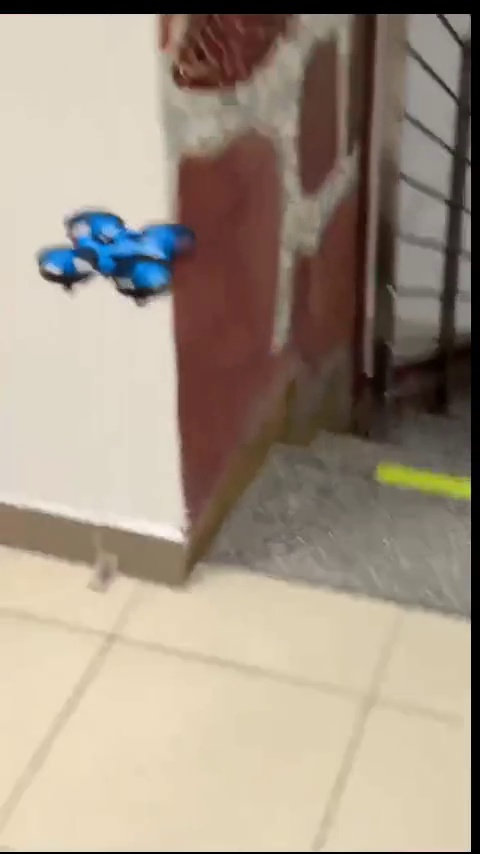drone: (44, 207, 206, 307)
